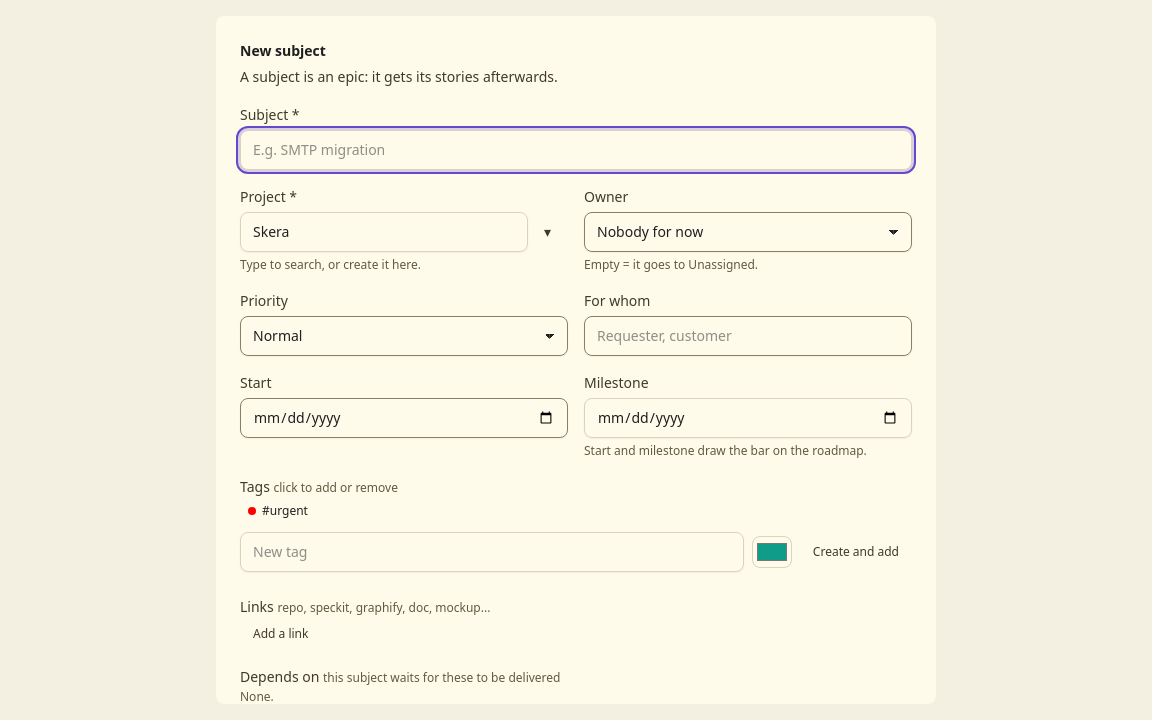
Test: creating a subject › shows the refusal of the board without losing the typed input
The image size is (1152, 720).
Type "Migration" into the field labelled "Subject *" at (576, 150), box [240,130,912,170]
(page scrolled)
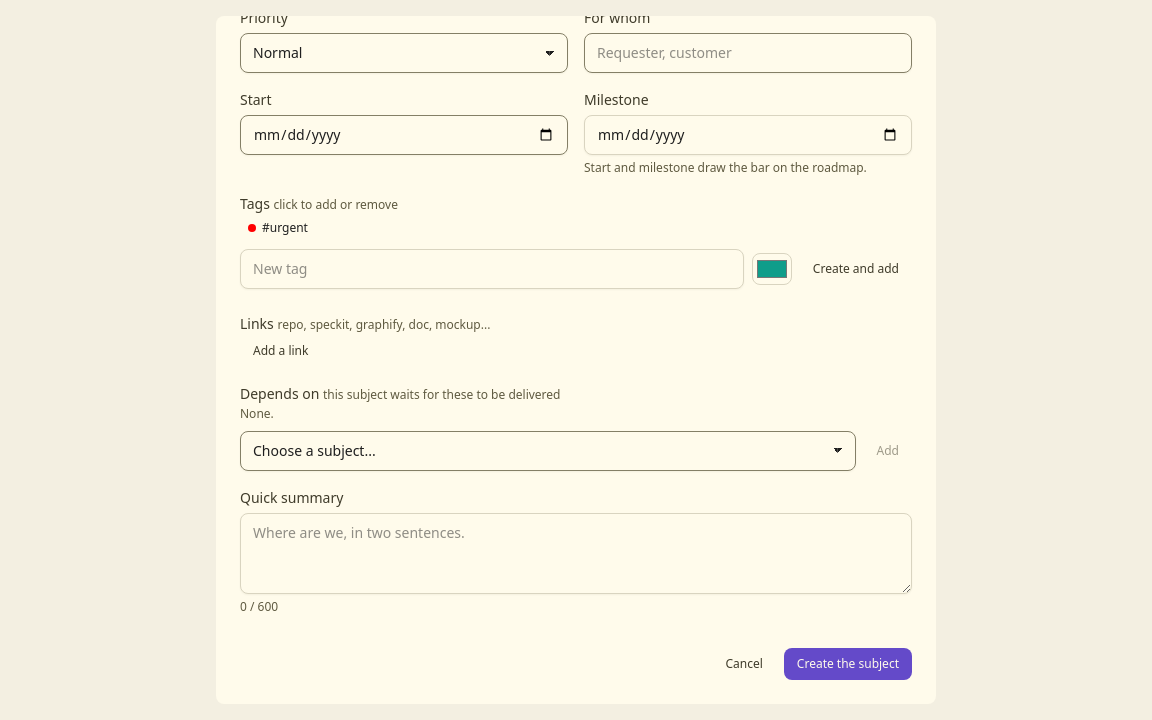
Type "Keep me" into the text box labelled "Quick summary" at (576, 553), box [240,513,912,594]
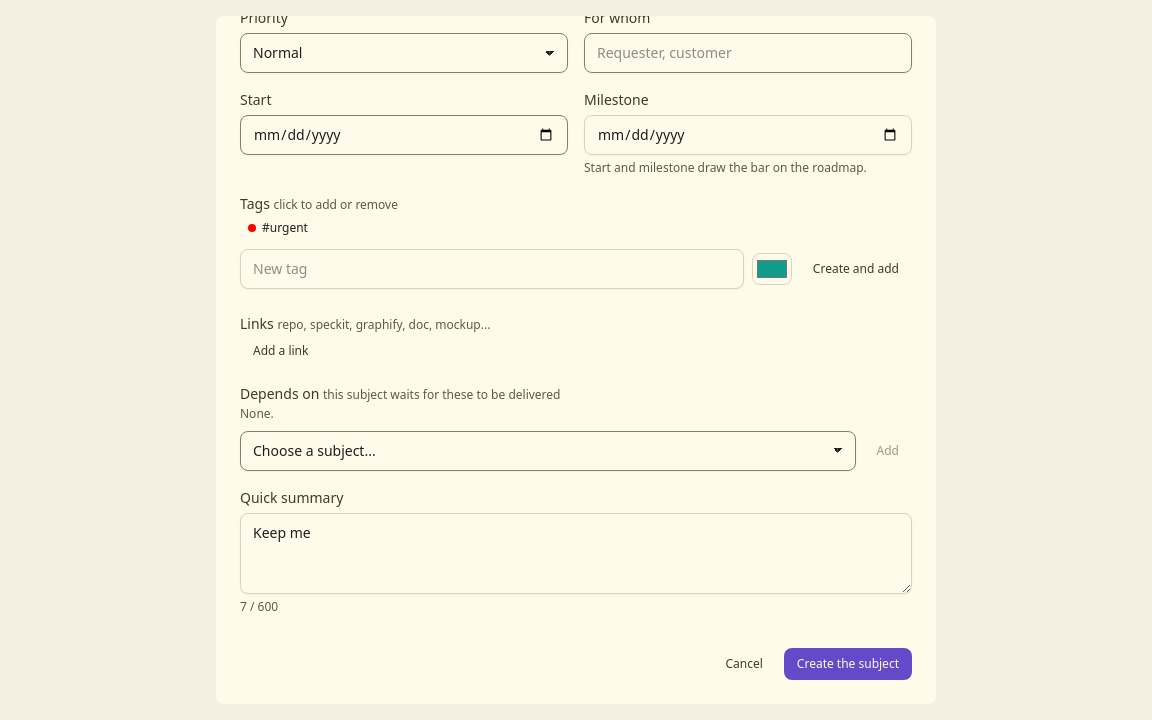
Click the button "Create the subject" at (848, 664), box [784,648,912,680]
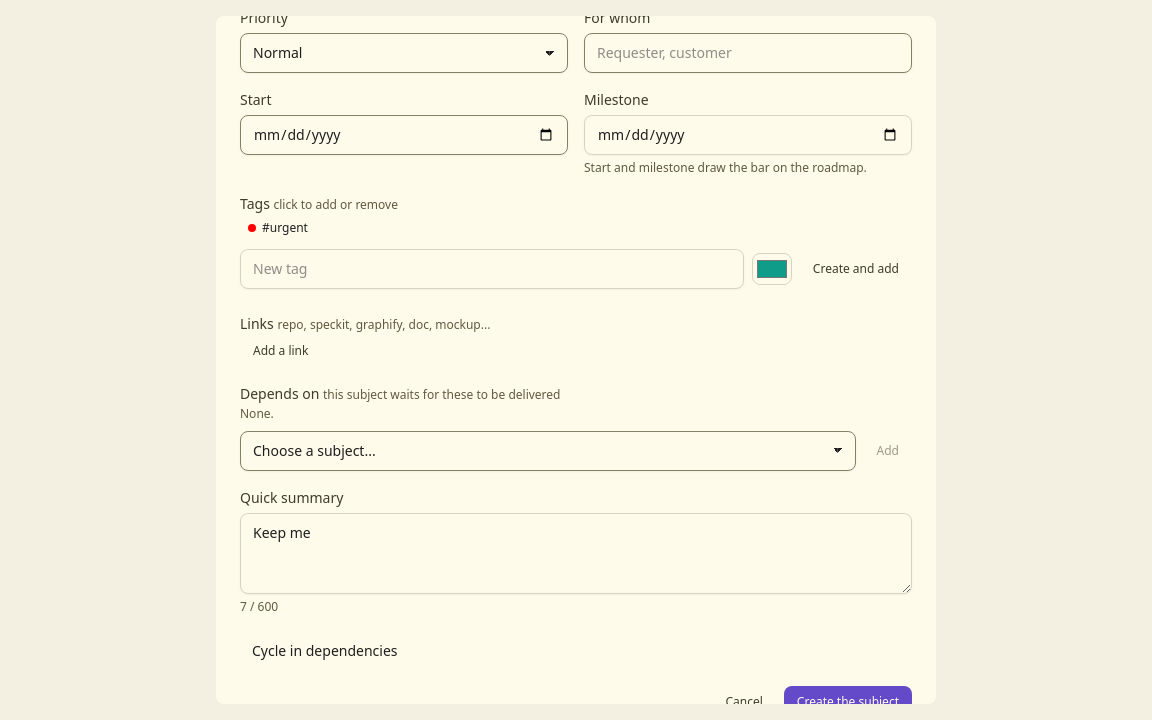
Expected: the message "Cycle in dependencies" is shown, [252,641,398,660]
